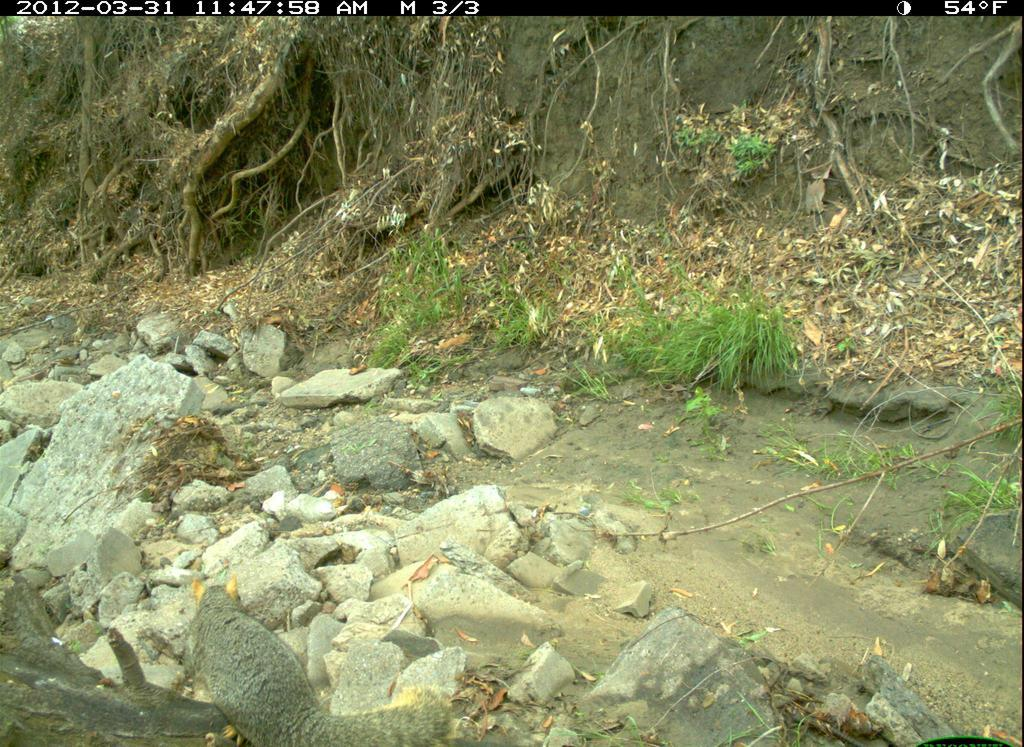squirrel: (166, 570, 477, 747)
